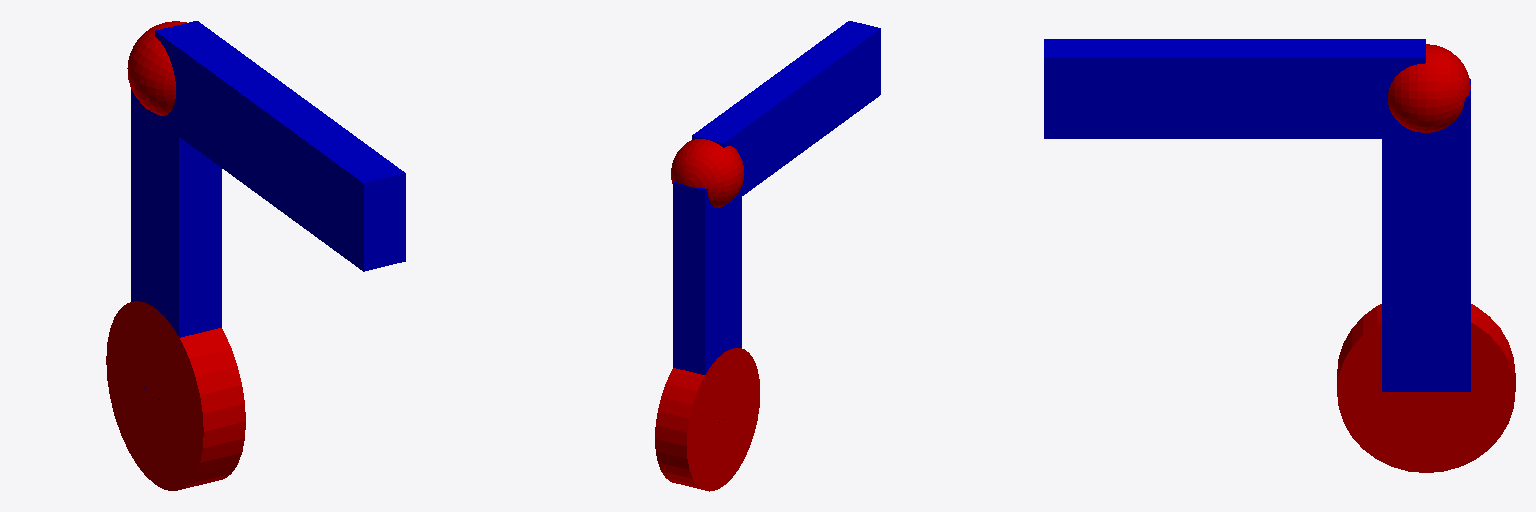
URDF robot description (TwoLink7164546714):
<?xml version="1.0"?>
<robot  name="TwoLink7164546714" >
 <material  name="blue" >
  <color  rgba="0 0 0.8 1.0" />
 </material>
 <material  name="red" >
  <color  rgba="0.8 0 0 1.0" />
 </material>
 <link  name="base_link" >
  <visual >
   <origin  xyz="0 0 0"  rpy="0 1.5707 0" />
   <material  name="red" />
   <geometry >
    <cylinder  length="0.05"  radius="0.1" />
   </geometry>
  </visual>
 </link>
 <joint  type="revolute"  name="joint1" >
  <parent  link="base_link" />
  <child  link="link1" />
  <origin  xyz="0 0 0"  rpy="0 0 0" />
  <axis  xyz="1 0 0" />
 </joint>
 <link  name="link1" >
  <inertial >
   <origin  xyz="0 0 0.181739025"  rpy="0 0 0" />
   <mass  value="1.9082597625" />
   <inertia  izz="0.021406904582320484"  iyy="0.0007951082343750001"  iyz="0.0"  ixz="0.0"  ixx="0.021406904582320484"  ixy="0.0" />
  </inertial>
  <visual >
   <origin  xyz="0 0 0.181739025"  rpy="0 0 0" />
   <material  name="blue" />
   <geometry >
    <box  size="0.05 0.1 0.36347805" />
   </geometry>
  </visual>
 </link>
 <joint  type="fixed"  name="joint-joint-1" >
  <parent  link="link1" />
  <child  link="joint-link-1" />
  <origin  xyz="0 0 0.36347805"  rpy="1.5707 0 0" />
  <axis  xyz="1 0 0" />
 </joint>
 <link  name="joint-link-1" >
  <inertial >
   <origin  xyz="0 0 0"  rpy="0 0 0" />
   <mass  value="3.11411655" />
   <inertia  izz="0"  iyy="0"  iyz="0"  ixz="0"  ixx="0"  ixy="0" />
  </inertial>
  <visual >
   <origin  xyz="0 0 0"  rpy="0 0 0" />
   <material  name="red" />
   <geometry >
    <sphere  radius="0.05" />
   </geometry>
  </visual>
 </link>
 <joint  type="revolute"  name="joint2" >
  <parent  link="link1" />
  <child  link="link2" />
  <origin  xyz="0 0 0.36347805"  rpy="1.5707 0 0" />
  <axis  xyz="1 0 0" />
 </joint>
 <link  name="link2" >
  <inertial >
   <origin  xyz="0 0 0.2138370115"  rpy="0 0 0" />
   <mass  value="1.9082597625" />
   <inertia  izz="0.029483419562265273"  iyy="0.0007951082343750001"  iyz="0.0"  ixz="0.0"  ixx="0.029483419562265273"  ixy="0.0" />
  </inertial>
  <visual >
   <origin  xyz="0 0 0.2138370115"  rpy="0 0 0" />
   <material  name="blue" />
   <geometry >
    <box  size="0.05 0.1 0.427674023" />
   </geometry>
  </visual>
 </link>
 <joint  type="fixed"  name="eef_joint" >
  <parent  link="link2" />
  <child  link="eef" />
  <origin  xyz="0 0 0.427674023"  rpy="0 0 0" />
 </joint>
 <link  name="eef" >
  <inertial >
   <origin  xyz="0 0 0"  rpy="0 0 0" />
   <mass  value="1" />
   <inertia  izz="0"  iyy="0"  iyz="0"  ixz="0"  ixx="0"  ixy="0" />
  </inertial>
 </link>
 <transmission  name="motor1" >
  <type  xmltext="SimpleTransmission" >
   SimpleTransmission
  </type>
  <actuator  name="motor1" >
   <mechanicalreduction  xmltext="1" >
    1
   </mechanicalreduction>
  </actuator>
  <joint  name="joint1" />
 </transmission>
 <transmission  name="motor2" >
  <type  xmltext="SimpleTransmission" >
   SimpleTransmission
  </type>
  <actuator  name="motor2" >
   <mechanicalreduction  xmltext="1" >
    1
   </mechanicalreduction>
  </actuator>
  <joint  name="joint2" />
 </transmission>
</robot>

<!-- {'carti': array([-0.1 ,  0.14,  0.85]), 'cartd': array([-0.1 ,  0.32,  1.29]), 'tau_mu': 0.680677339, 'b0': 0.391456772, 'Km': 5.0, 'k_velocity': 0.01, 'tau_max_m': 3.45911489, 'omega_max_m': 5387.82768, 'gear_ratio': 25.0, 'Kp': 0.0001, 'Kd': 74.2612444, 'm_m': 3.11411655, 'l1': 0.36347805, 'l2': 0.427674023}-->

--- Render facts (derived) ---
Views: 3 orthographic renders of the robot side by side, from view 1: azimuth 30°, elevation 25°; view 2: azimuth 150°, elevation 25°; view 3: azimuth 270°, elevation 25°.
Model TwoLink7164546714 with 5 links and 4 joints (2 revolute, 2 fixed), rooted at base_link, posed every joint at zero.
Visible links, largest first — view 1: link2, base_link, link1, joint-link-1; view 2: link2, link1, base_link, joint-link-1; view 3: link2, link1, base_link, joint-link-1.
Boxes of the visible links, x1,y1,x2,y2 form: link2: (155, 21, 405, 271); base_link: (106, 301, 245, 490); link1: (131, 89, 221, 399); joint-link-1: (127, 21, 186, 115); link2: (692, 21, 880, 196); link1: (673, 181, 741, 422); base_link: (655, 348, 759, 491); joint-link-1: (671, 139, 743, 207); link2: (1044, 39, 1425, 138); link1: (1382, 79, 1470, 391); base_link: (1337, 304, 1515, 472); joint-link-1: (1388, 44, 1470, 132).
Size in the robot's own frame: 0.1 by 0.5277 by 0.5135 metres.
Geometry: primitives only (box / cylinder / sphere), no mesh files.
